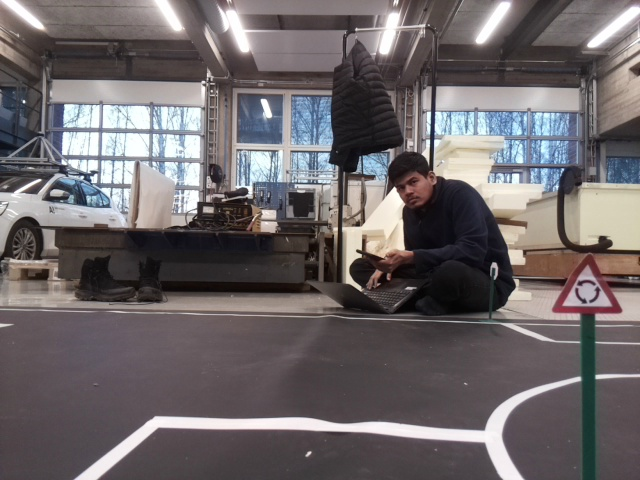Roundabout: (546, 251, 622, 313)
